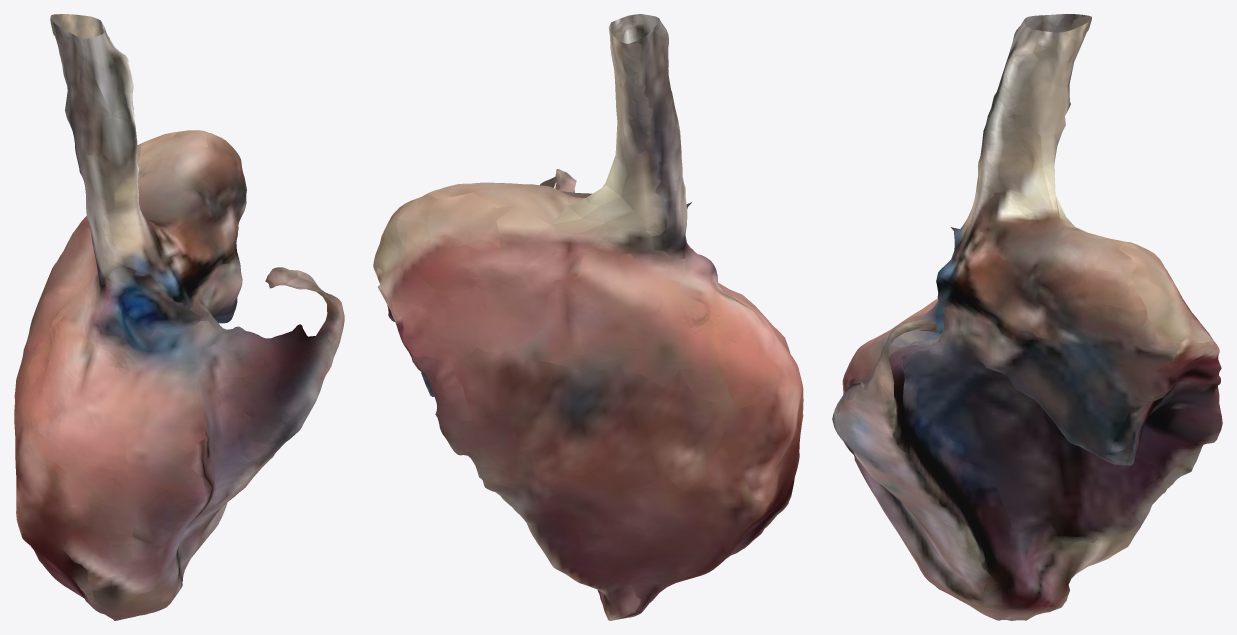
Rendered from porc_foie.glb.
3 renders of one model, left to right at view 1: azimuth 30°, elevation 25°; view 2: azimuth 150°, elevation 25°; view 3: azimuth 270°, elevation 25°, orthographic. The views are drawn at different scales.
Visible parts, largest first — view 1: Object_2; view 2: Object_2; view 3: Object_2.
Part boxes in pixels (box(x1,y1,x2,y2)): Object_2: box(14, 14, 344, 620); Object_2: box(373, 14, 803, 620); Object_2: box(832, 14, 1222, 620).
Size of the model in its own units: 0.0466 by 0.086 by 0.052.
1 material, 1 textured.
